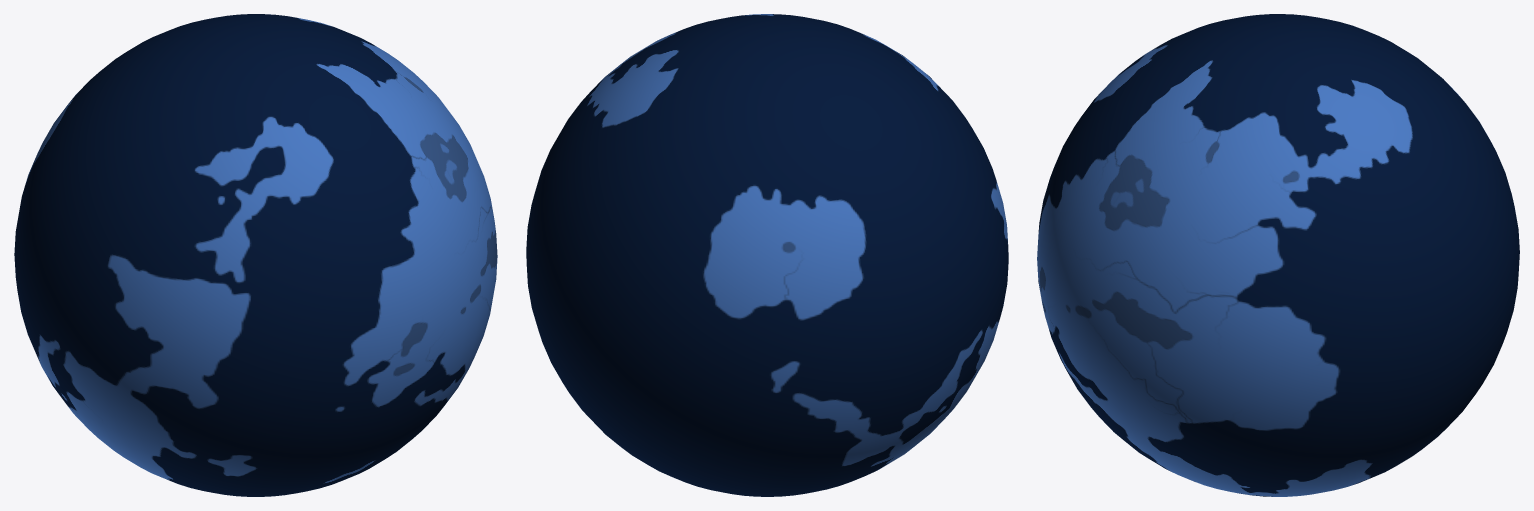
File: globe.fbx
The picture shows the model from 3 angles, left to right: view 1: azimuth 30°, elevation 25°; view 2: azimuth 150°, elevation 25°; view 3: azimuth 270°, elevation 25°; orthographic projection.
Visible parts, largest first — view 1: Sphere; view 2: Sphere; view 3: Sphere.
Boxes of the visible parts, x1,y1,x2,y2 form: Sphere: (14, 14, 497, 496); Sphere: (526, 14, 1008, 496); Sphere: (1037, 14, 1519, 496).
Bounding box in the file's own units: 200 × 200 × 200.
1 material, 1 textured.
